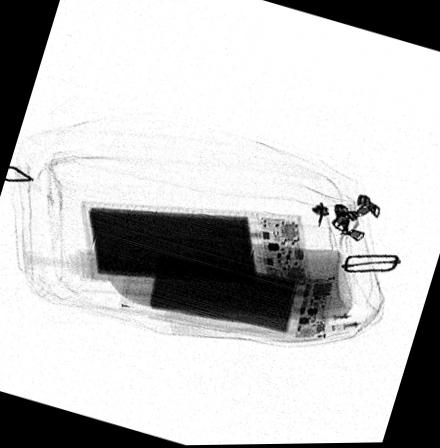Powerbank: (116, 244, 337, 340), (80, 203, 315, 287)
